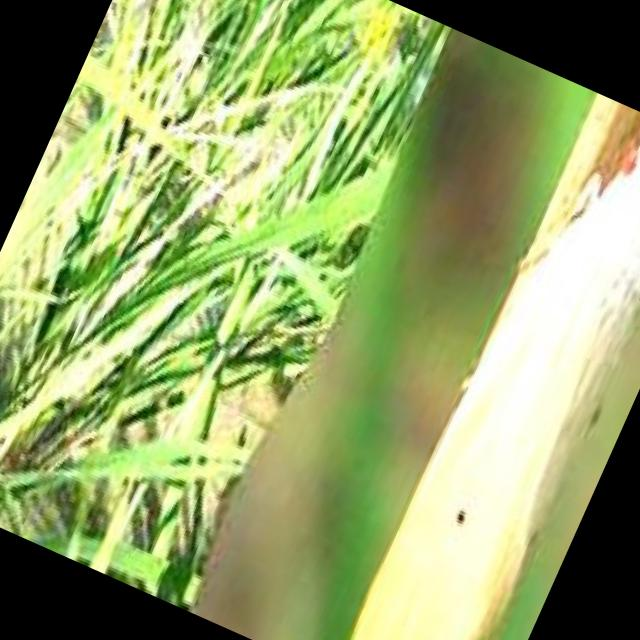stem-borer: (327, 89, 640, 640)
